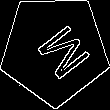M_SW: (22, 16, 87, 83)
